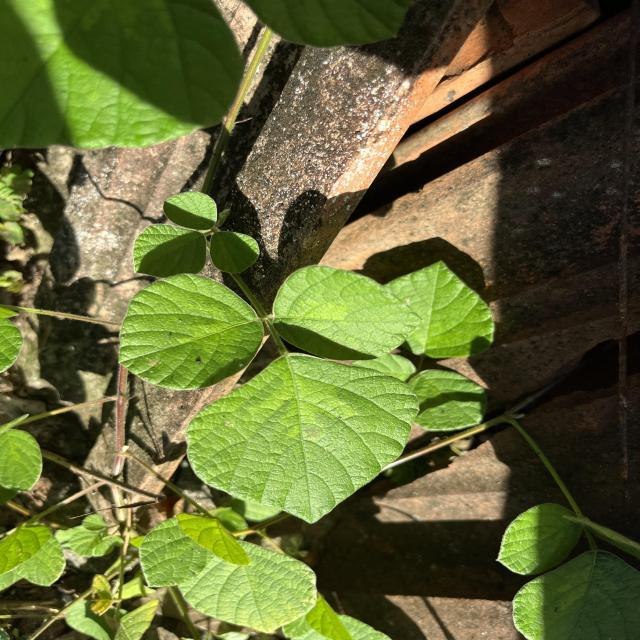Pseudarthria viscida: (116, 262, 426, 527), (132, 190, 262, 278)
